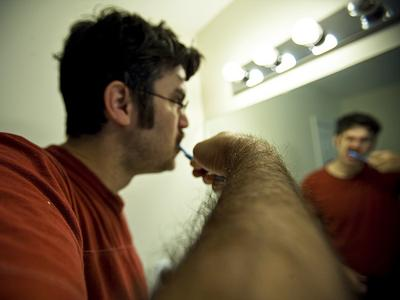person: (4, 9, 366, 300)
